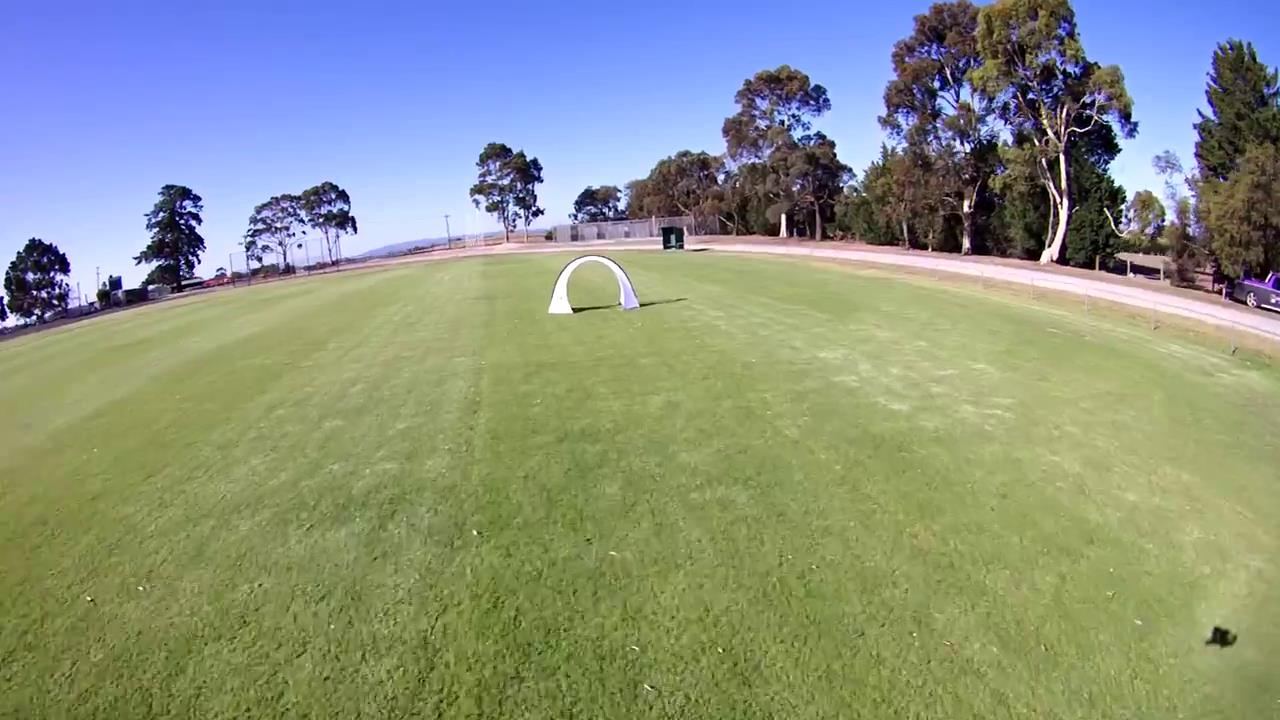gate: (546, 254, 644, 312)
